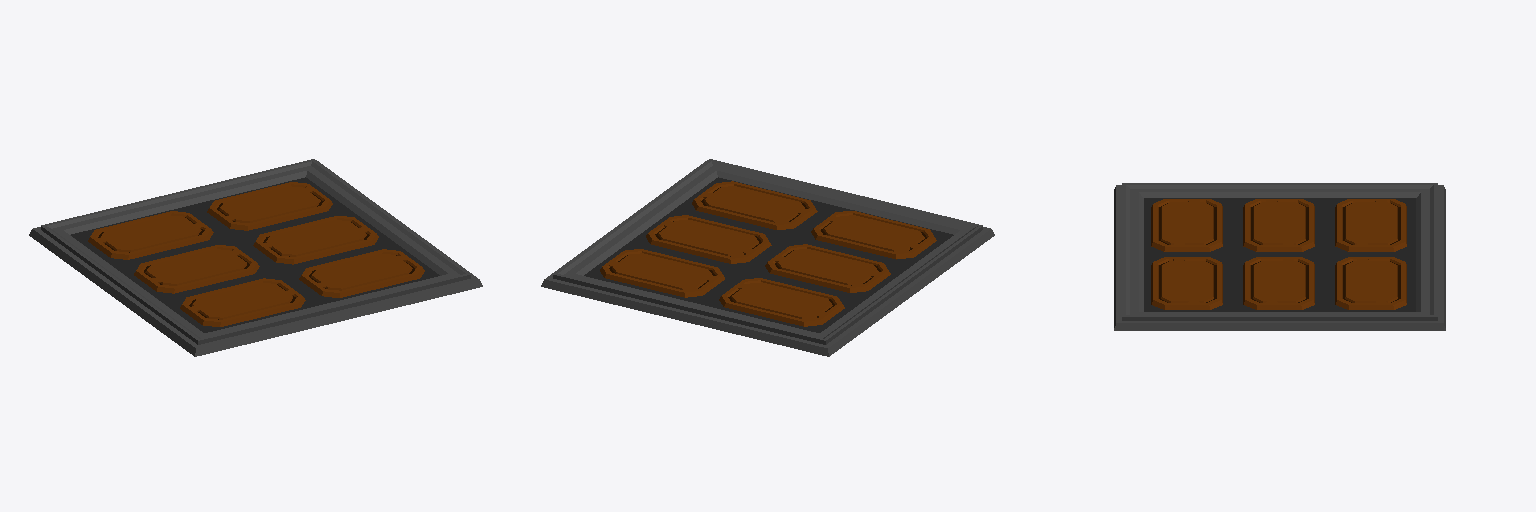
Rendered from RoofTile_Details.obj.
The picture shows the model from 3 angles: view 1: azimuth 30°, elevation 25°; view 2: azimuth 150°, elevation 25°; view 3: azimuth 270°, elevation 25°; orthographic projection.
Parts seen in each view (by area): view 1: RoofTile_Details_Plane.124; view 2: RoofTile_Details_Plane.124; view 3: RoofTile_Details_Plane.124.
Part boxes in pixels (x1,y1,x2,y2): RoofTile_Details_Plane.124: (29, 159, 482, 356); RoofTile_Details_Plane.124: (541, 159, 994, 356); RoofTile_Details_Plane.124: (1114, 183, 1445, 330).
Size of the model in its own units: 2 by 0.0805 by 2.